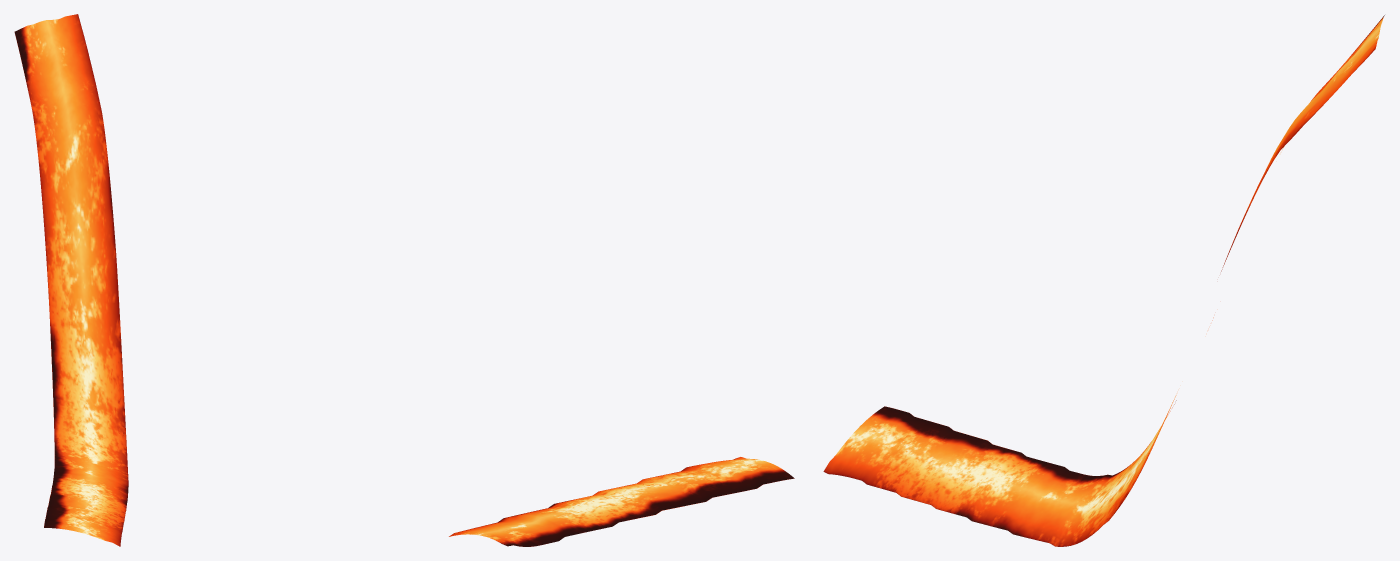
The model's file is flow_2_3.glb.
3 views of the same model, side by side, from view 1: azimuth 30°, elevation 25°; view 2: azimuth 150°, elevation 25°; view 3: azimuth 270°, elevation 25° (orthographic). The views are drawn at different scales.
Size of the model in its own units: 7.08 by 12.36 by 11.65.
